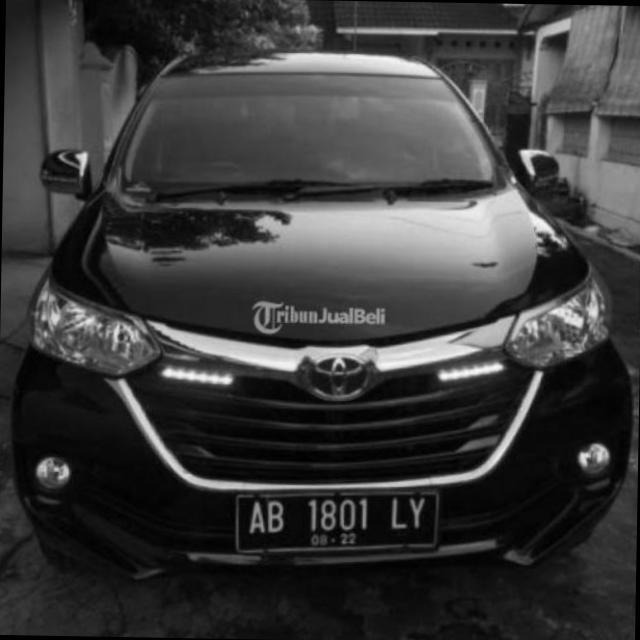0: (336, 497, 356, 532)
1: (305, 498, 320, 534), (356, 496, 369, 530)
8: (318, 498, 337, 538)
A: (247, 501, 266, 534)
B: (267, 500, 286, 534)
L: (381, 494, 412, 537)
Y: (410, 488, 428, 536)
